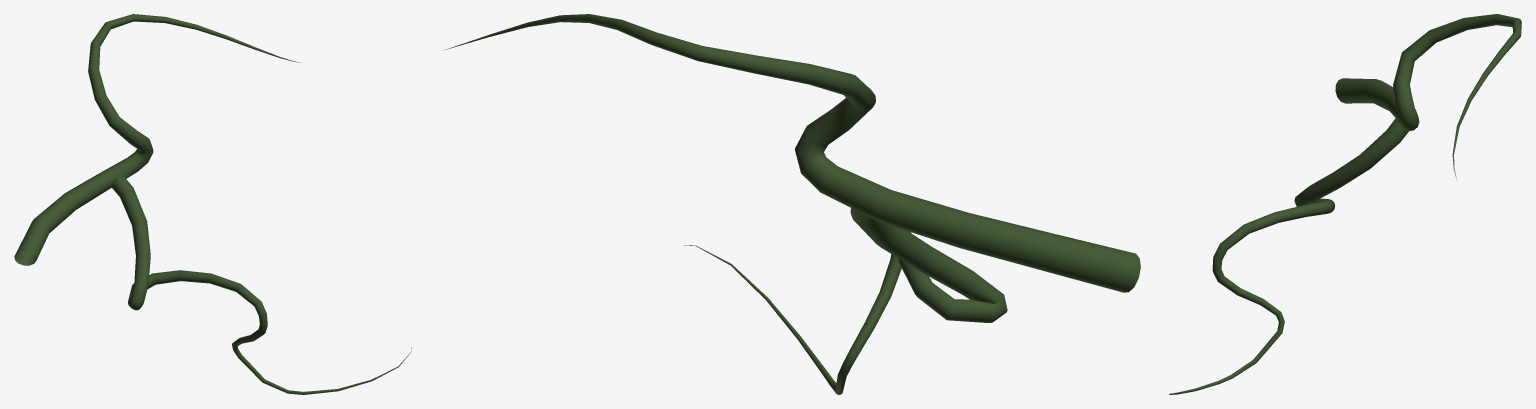
File: corazón - copia.fbx
3 renders of one model, left to right at view 1: azimuth 30°, elevation 25°; view 2: azimuth 150°, elevation 25°; view 3: azimuth 270°, elevation 25°, orthographic. The views are drawn at different scales.
Visible parts, largest first — view 1: BezierCurve.002; view 2: BezierCurve.002; view 3: BezierCurve.002.
Part boxes in pixels (x1,y1,x2,y2): BezierCurve.002: (14, 14, 411, 394); BezierCurve.002: (445, 14, 1140, 394); BezierCurve.002: (1169, 14, 1521, 394).
Bounding box in the file's own units: 418 × 349 × 336.
